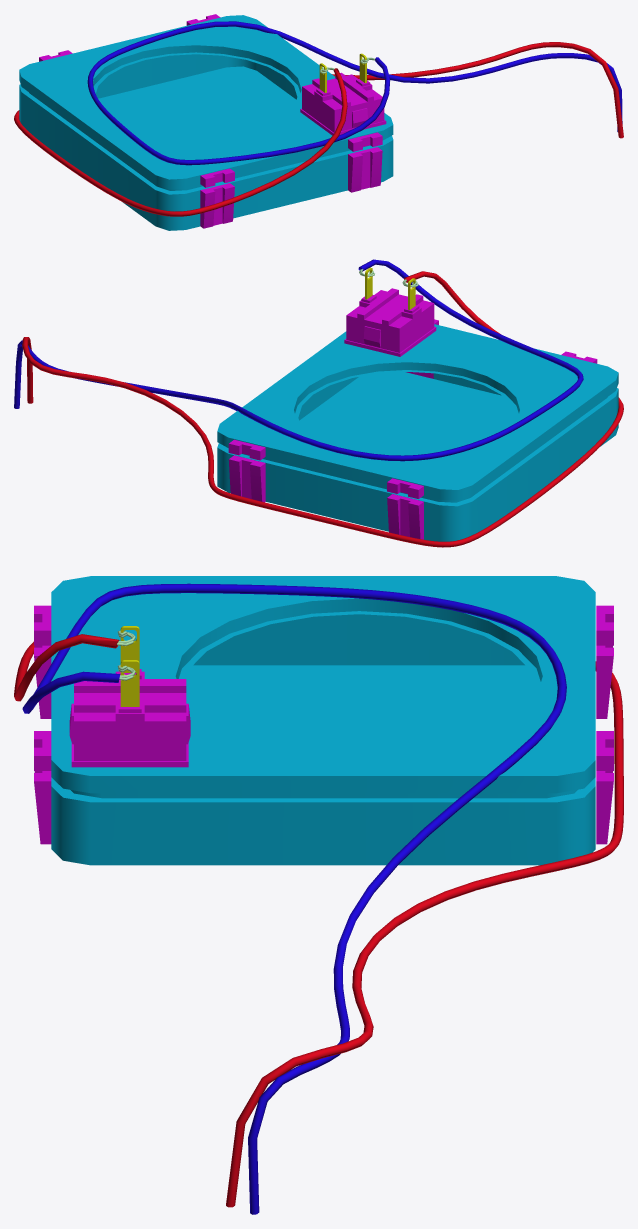
Rendered from foildispenser.fbx.
3 views of the same model, one above another, from view 1: azimuth 30°, elevation 25°; view 2: azimuth 150°, elevation 25°; view 3: azimuth 270°, elevation 25° (orthographic). The views are drawn at different scales.
Visible parts, largest first — view 1: foil dispenser; view 2: foil dispenser; view 3: foil dispenser.
Part boxes in pixels (box(x1,y1,x2,y2)): foil dispenser: box(14, 14, 623, 230); foil dispenser: box(14, 259, 623, 547); foil dispenser: box(14, 576, 623, 1214).
Bounding box in the file's own units: 1365 × 433 × 788.
